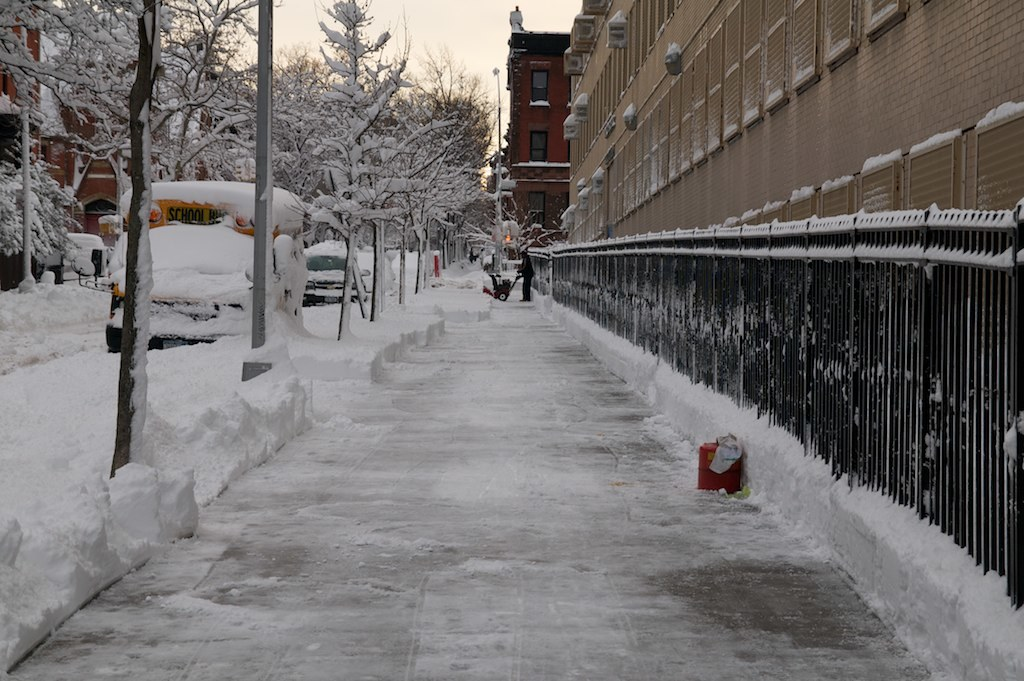Tree: (0, 0, 259, 499), (296, 0, 453, 338)
